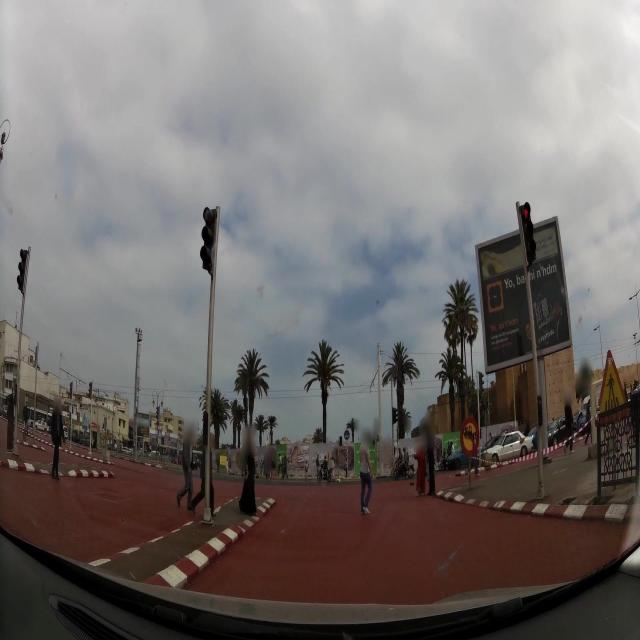forb_stopping: (460, 417, 479, 455)
